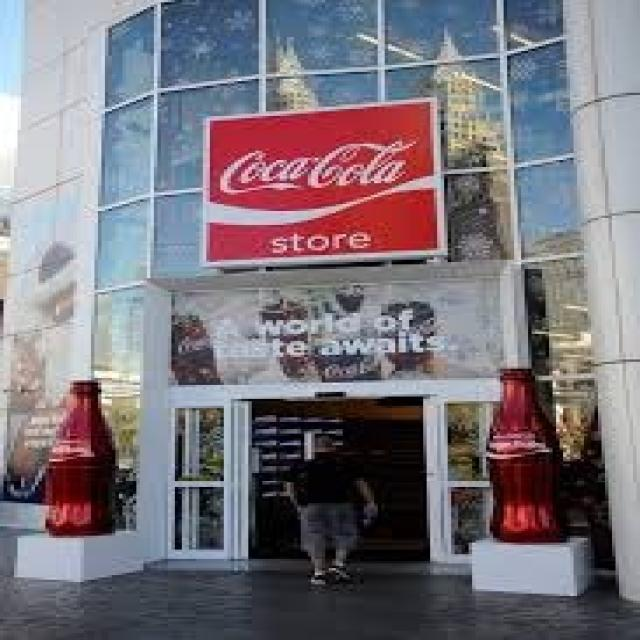coca cola: (206, 138, 437, 221)
